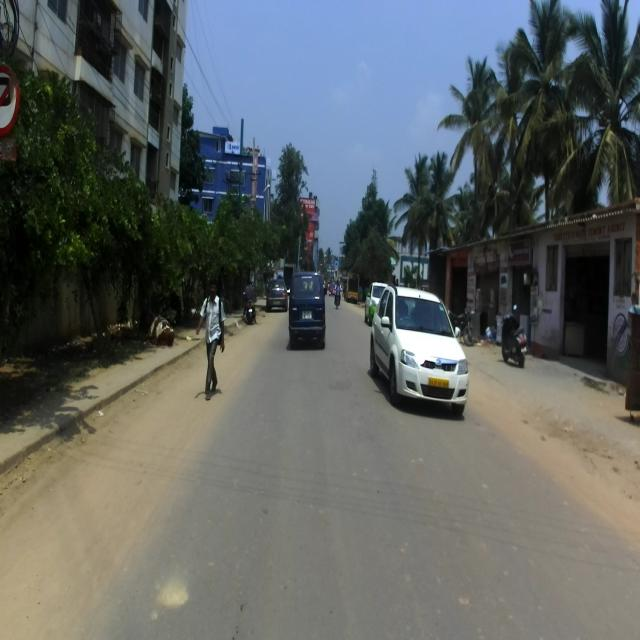car: (369, 283, 469, 414), (288, 269, 327, 348)
scooter: (500, 303, 528, 367)
